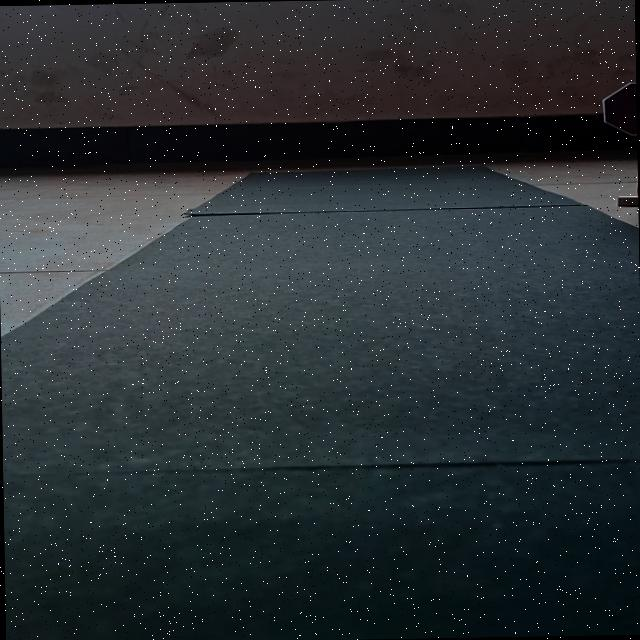Stop: (599, 80, 637, 136)
